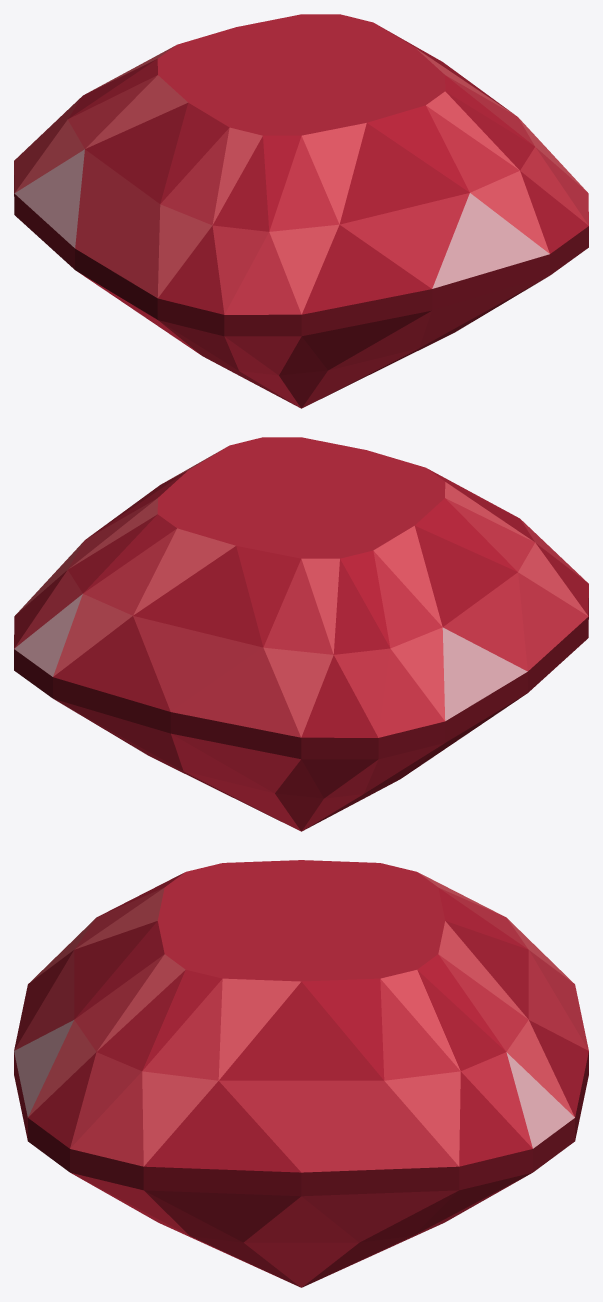
The model's file is treasure_ruby.glb.
3 renders of one model, top to bottom at view 1: azimuth 30°, elevation 25°; view 2: azimuth 150°, elevation 25°; view 3: azimuth 270°, elevation 25°, orthographic. The views are drawn at different scales.
Visible parts, largest first — view 1: treasure_ruby; view 2: treasure_ruby; view 3: treasure_ruby.
Boxes of the visible parts, x1=… form: treasure_ruby: x1=14, y1=14, x2=588, y2=408; treasure_ruby: x1=14, y1=437, x2=588, y2=831; treasure_ruby: x1=14, y1=860, x2=588, y2=1287.
Size of the model in its own units: 0.088 by 0.062 by 0.088.
